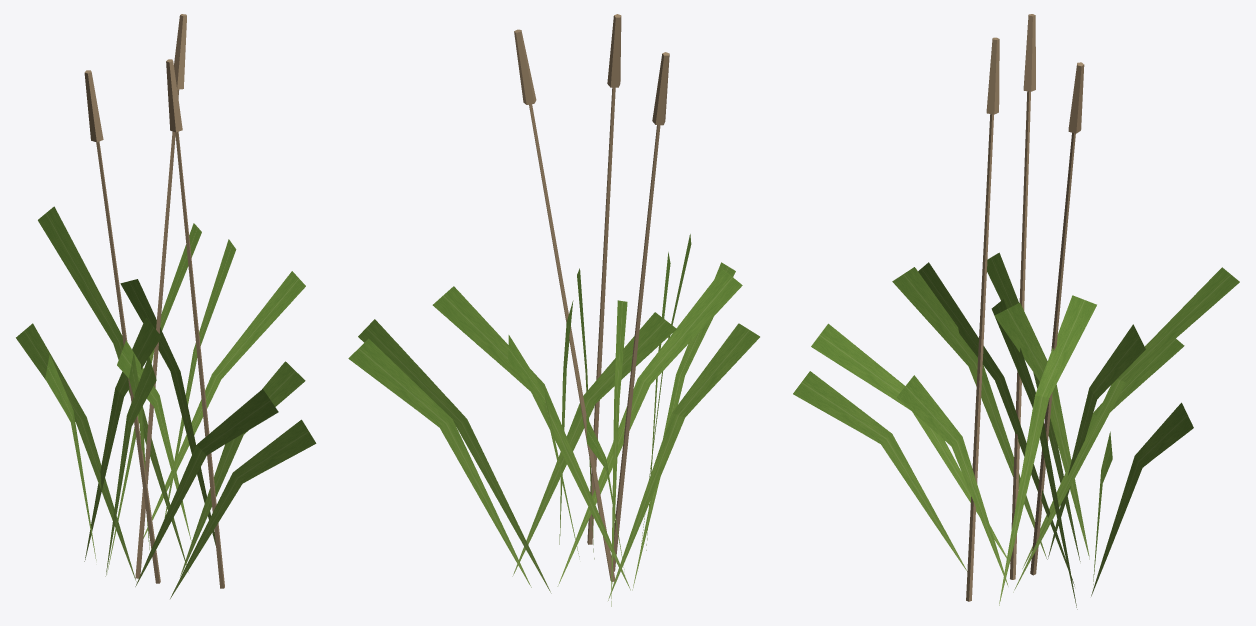
Rendered from grass_tall.glb.
3 views of the same model, side by side, from view 1: azimuth 30°, elevation 25°; view 2: azimuth 150°, elevation 25°; view 3: azimuth 270°, elevation 25° (orthographic). The views are drawn at different scales.
Parts seen in each view (by area): view 1: grass_tall; view 2: grass_tall; view 3: grass_tall.
Part boxes in pixels (bbox=[...]): grass_tall: bbox=[16, 14, 316, 598]; grass_tall: bbox=[348, 14, 759, 606]; grass_tall: bbox=[793, 14, 1239, 609].
Size of the model in its own units: 0.7911 by 1.24 by 0.9188.
2 materials, 1 textured.
